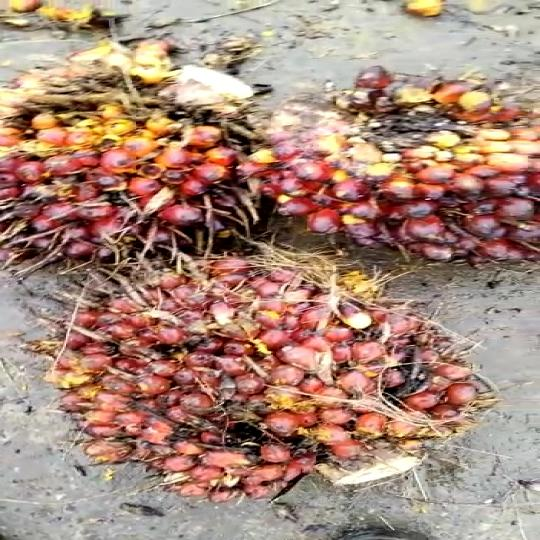masak: (22, 249, 504, 508), (0, 39, 288, 272), (292, 63, 540, 277)
